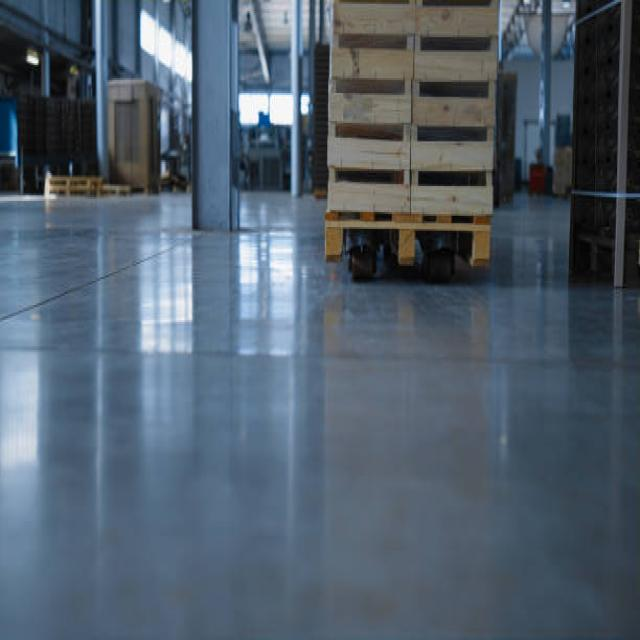Wooden-Pallets: (319, 209, 497, 272)
